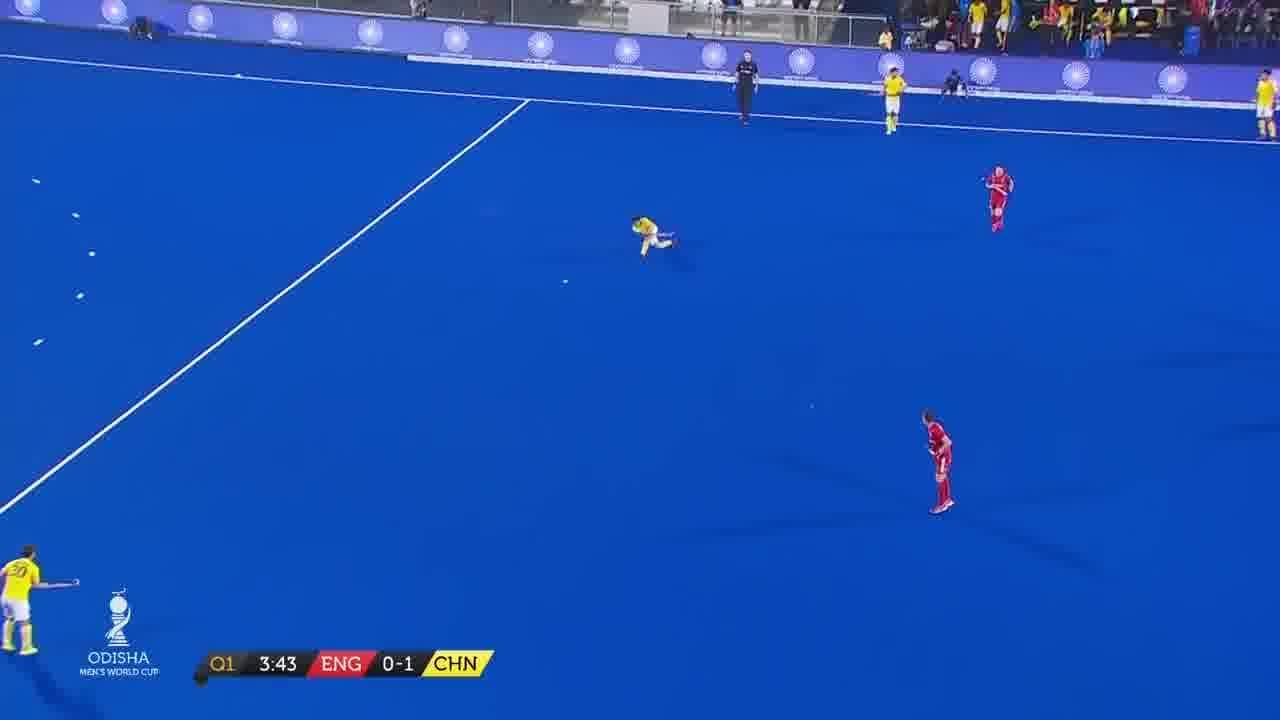ball: (559, 271, 573, 288)
